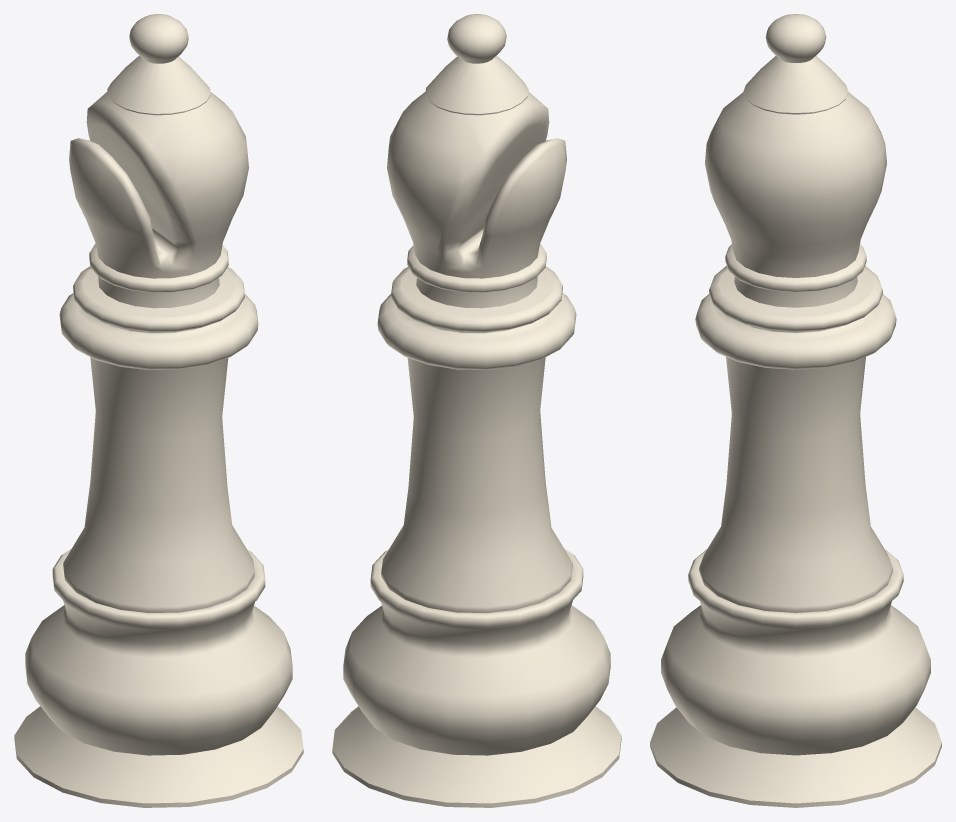
Rendered from white-bishop.glb.
3 renders of one model, left to right at view 1: azimuth 30°, elevation 25°; view 2: azimuth 150°, elevation 25°; view 3: azimuth 270°, elevation 25°, orthographic.
Visible parts, largest first — view 1: Bishop; view 2: Bishop; view 3: Bishop.
Boxes of the visible parts, bbox=[...] form: Bishop: bbox=[14, 14, 303, 807]; Bishop: bbox=[332, 14, 621, 807]; Bishop: bbox=[650, 14, 941, 807].
Bounding box in the file's own units: 0.0379 × 0.1054 × 0.0382.
